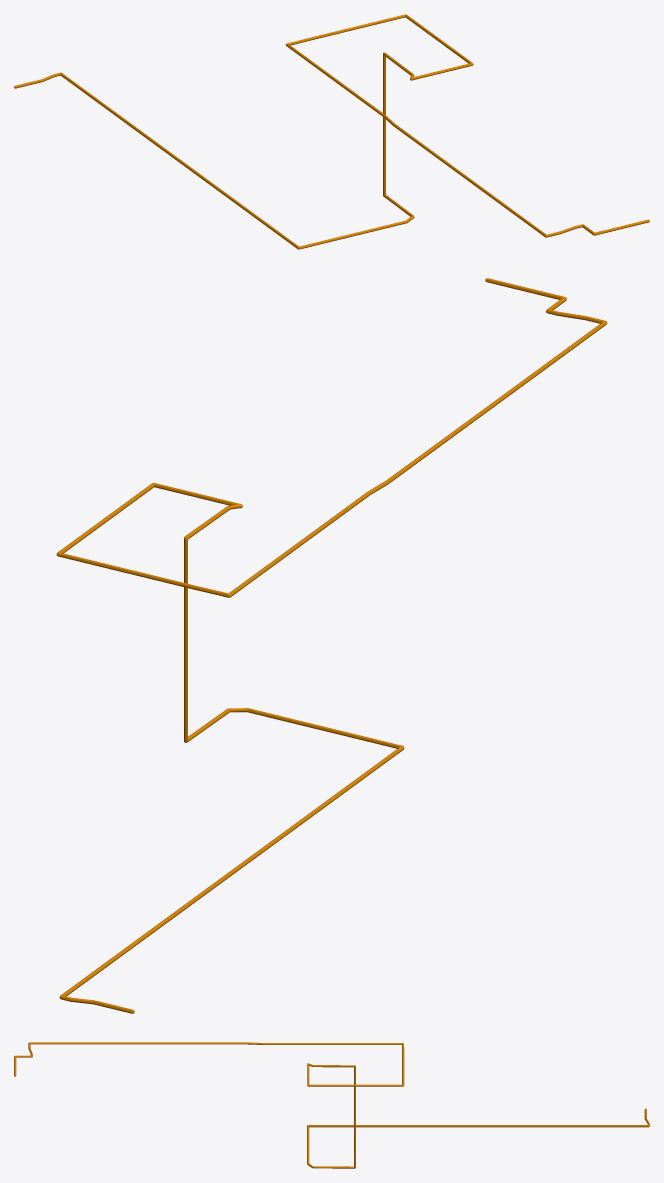
3 renders of one model, top to bottom at view 1: azimuth 30°, elevation 25°; view 2: azimuth 150°, elevation 25°; view 3: azimuth 270°, elevation 25°, orthographic. The views are drawn at different scales.
Bounding box in the file's own units: 1656 × 1020 × 5691.
